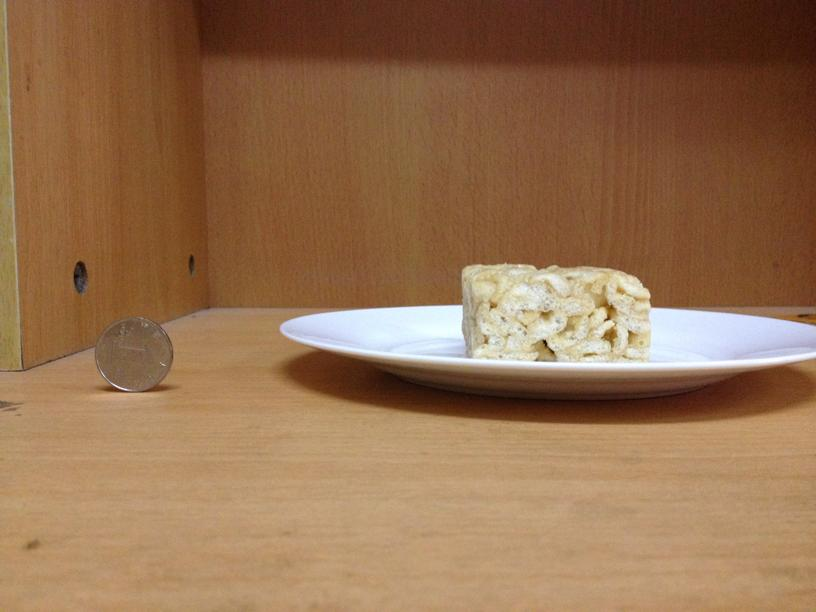coin: (91, 318, 173, 393)
sachima: (458, 265, 651, 362)
